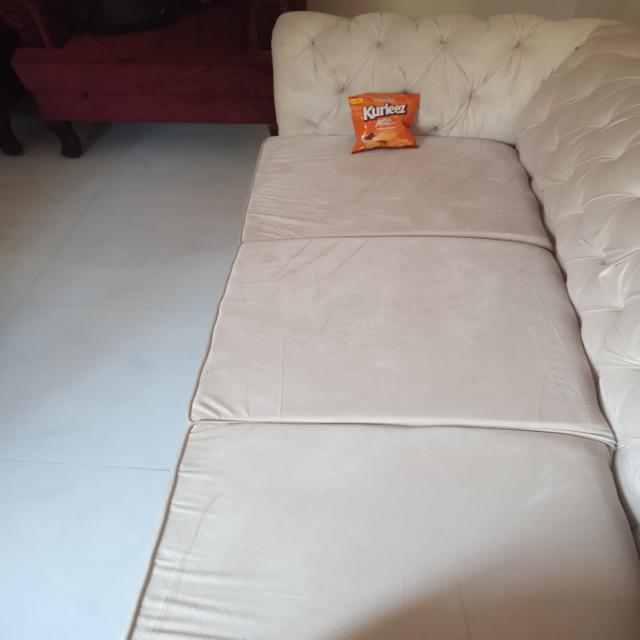Plastic: (350, 91, 424, 155)
